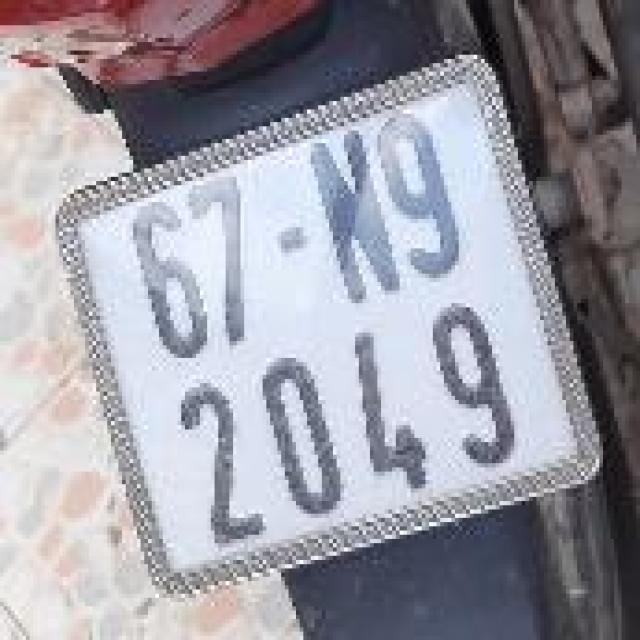0: (245, 341, 353, 527)
2: (165, 359, 272, 560)
4: (335, 308, 441, 505)
6: (121, 198, 216, 373)
7: (180, 161, 272, 359)
9: (419, 280, 529, 480), (361, 93, 473, 289)
N: (297, 117, 409, 317)
